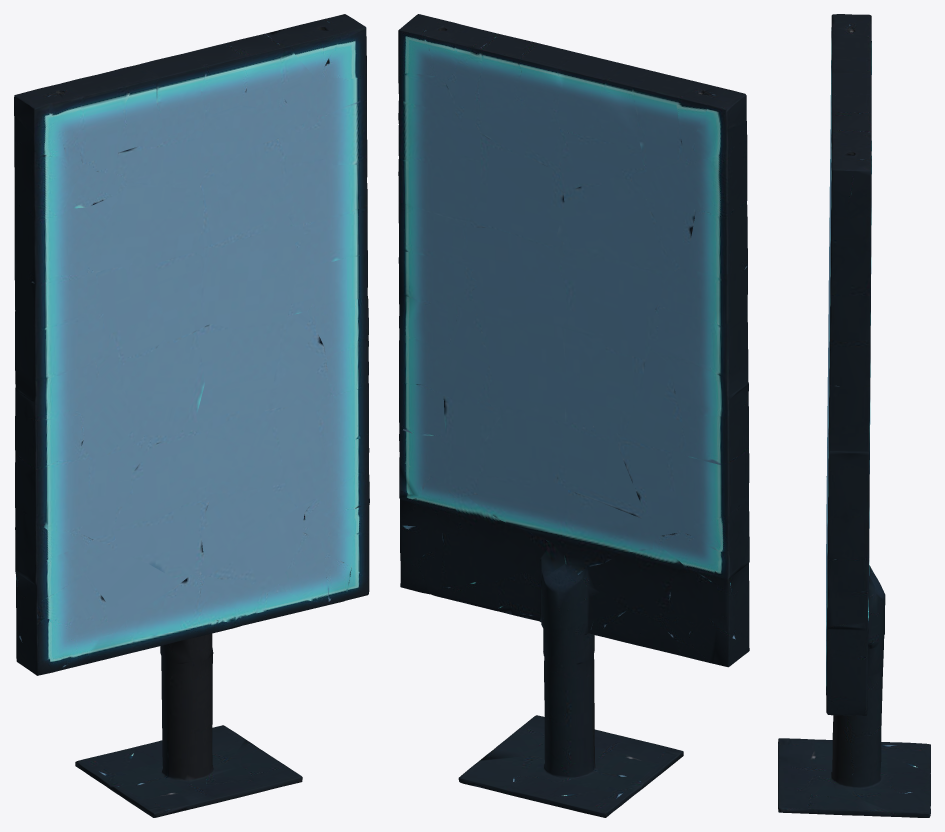
The model's file is billboard_v.glb.
3 views of the same model, side by side, from view 1: azimuth 30°, elevation 25°; view 2: azimuth 150°, elevation 25°; view 3: azimuth 270°, elevation 25° (orthographic). The views are drawn at different scales.
Bounding box in the file's own units: 0.9265 × 1.9 × 0.3803.
1 material, 1 textured.
